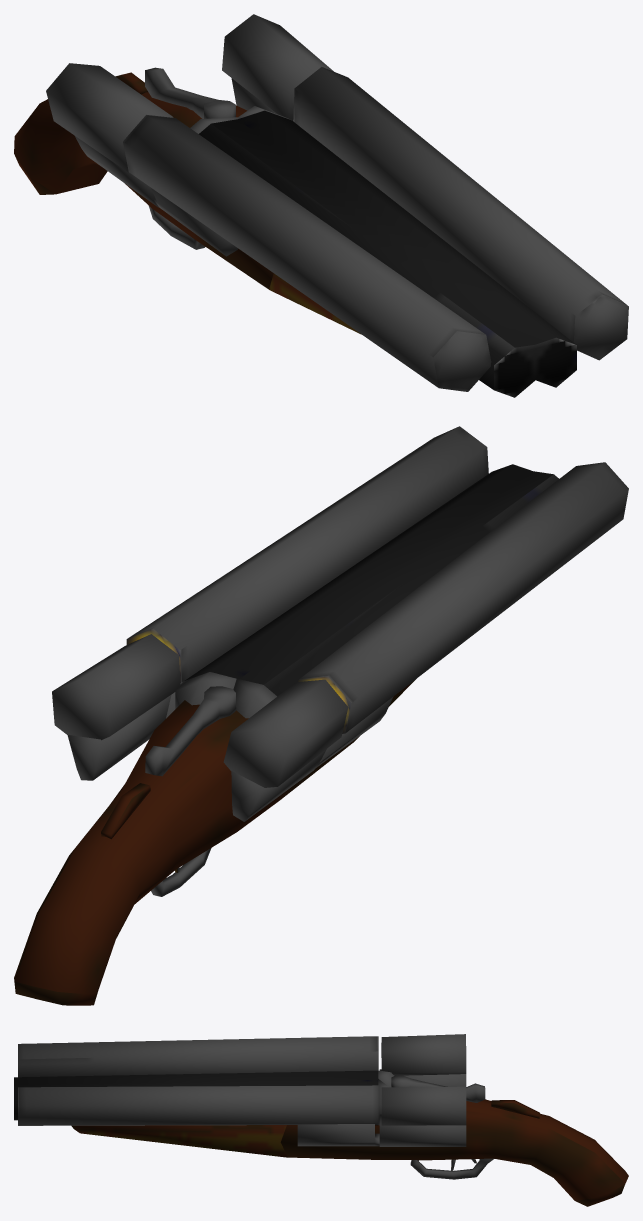
File: Shotgun.obj
The picture shows the model from 3 angles, top to bottom: view 1: azimuth 30°, elevation 25°; view 2: azimuth 150°, elevation 25°; view 3: azimuth 270°, elevation 25°; orthographic projection. The views are drawn at different scales.
Parts seen in each view (by area): view 1: Shotgun; view 2: Shotgun; view 3: Shotgun.
Boxes of the visible parts, bbox=[...] form: Shotgun: bbox=[14, 14, 628, 397]; Shotgun: bbox=[14, 426, 628, 1005]; Shotgun: bbox=[14, 1034, 628, 1206].
Bounding box in the file's own units: 0.0662 × 0.061 × 0.2455.
Materials: 4 (4 with a texture image).
